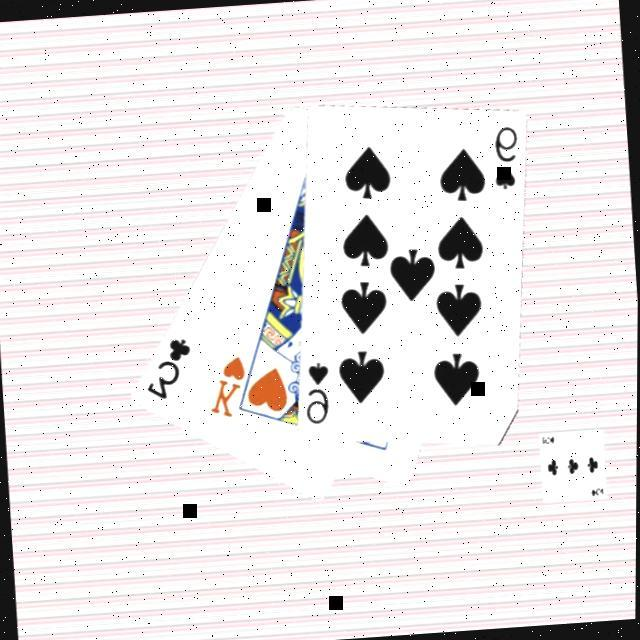3C: (140, 336, 197, 406)
9S: (298, 360, 336, 430), (487, 124, 524, 194)
KH: (203, 353, 252, 424)
